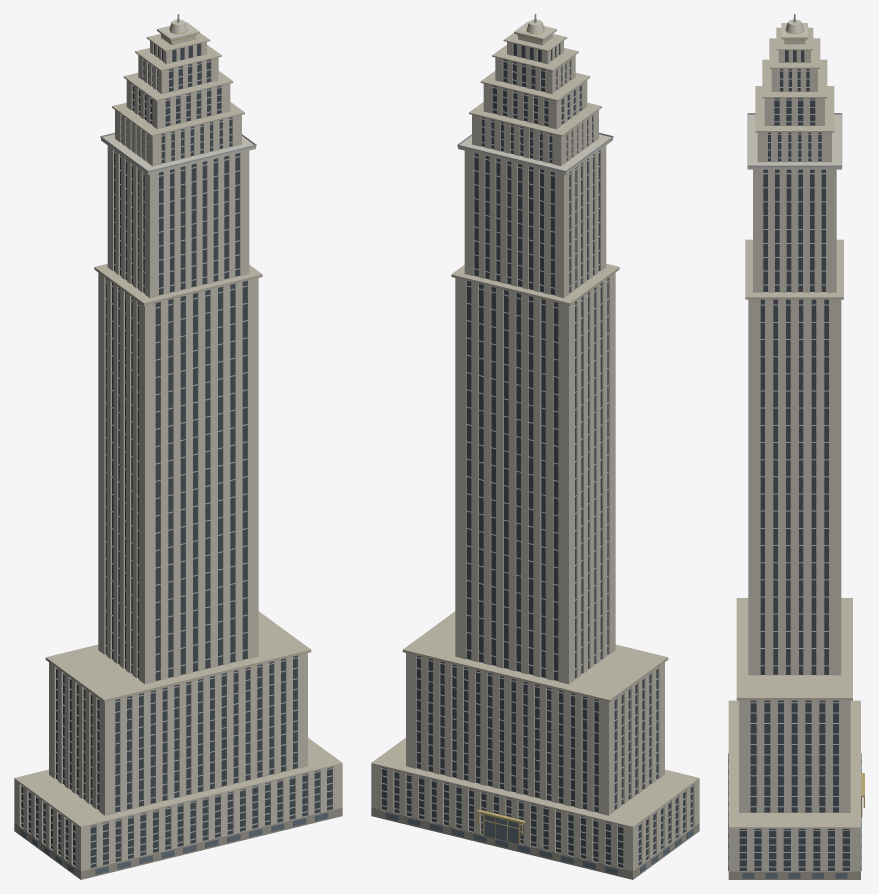
Rendered from empire.glb.
3 views of the same model, side by side, from view 1: azimuth 30°, elevation 25°; view 2: azimuth 150°, elevation 25°; view 3: azimuth 270°, elevation 25° (orthographic).
Visible parts, largest first — view 1: empire; view 2: empire; view 3: empire.
Boxes of the visible parts, x1=… form: empire: x1=14, y1=14, x2=342, y2=879; empire: x1=371, y1=14, x2=699, y2=879; empire: x1=728, y1=14, x2=864, y2=879.
Bounding box in the file's own units: 129 × 381 × 58.93.
